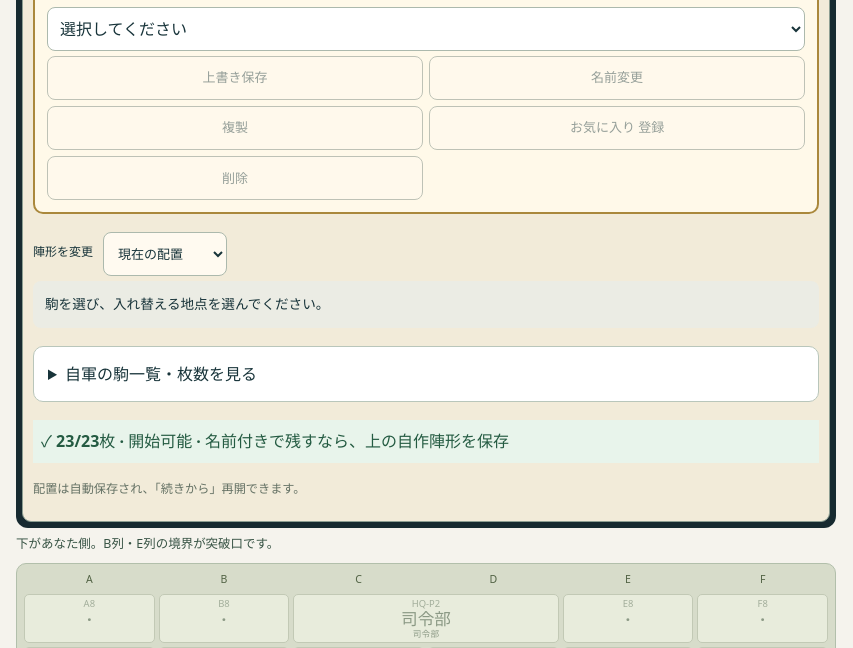
it: setup board and inventory show the same icon above every formal piece name
(page scrolled)
Click the heading "自軍の駒一覧・枚数を見る".
click(161, 374)  # box [65,363,257,385]
(page scrolled)
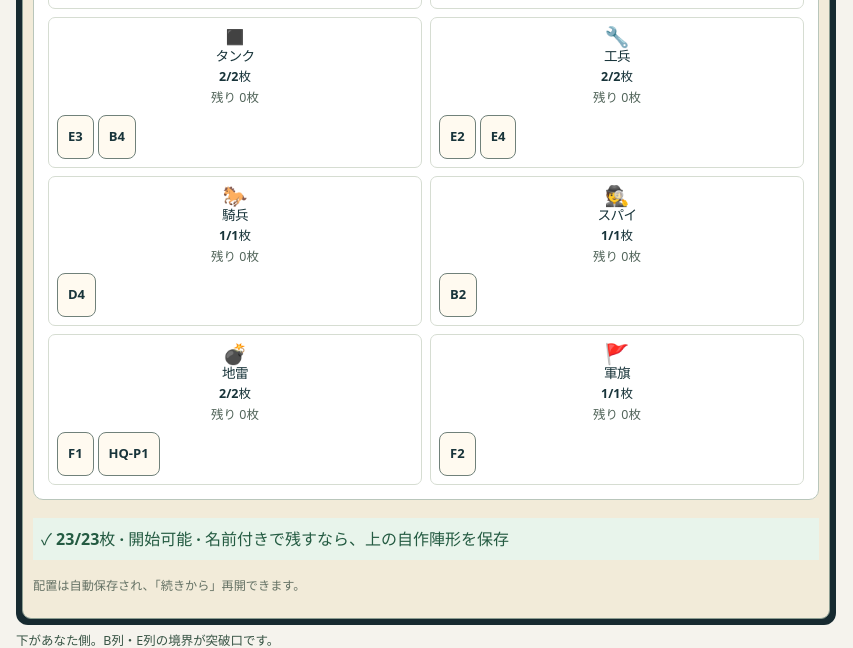
Check: the icon "◼️" is shown, box [222,26,248,48]
Check: the text "タンク" is shown, box [215,49,255,64]
Check: the icon "🔧" is shown, box [604,26,630,48]
